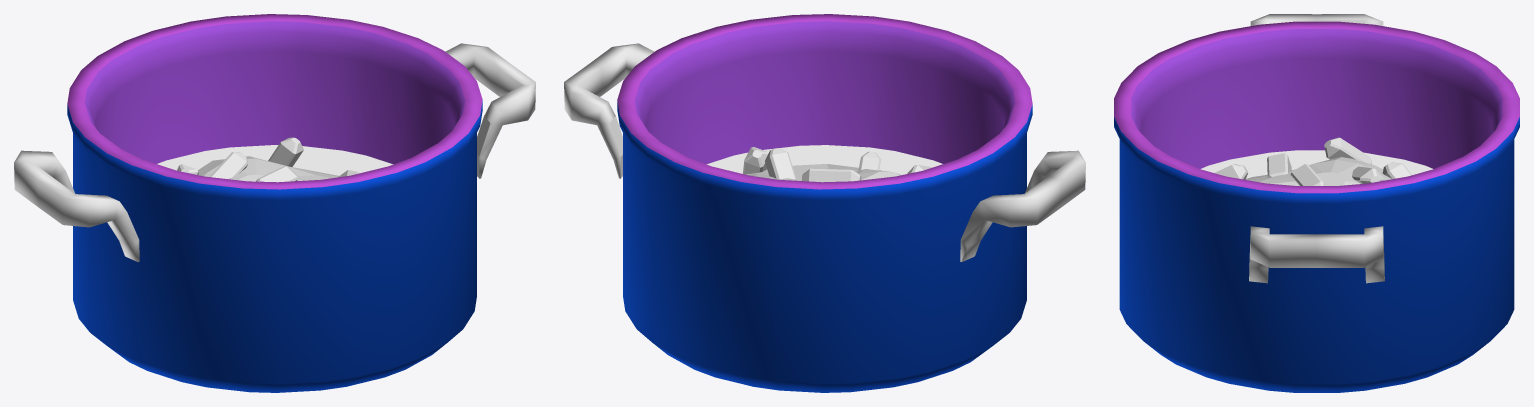
Rendered from OatmealPot.fbx.
3 views of the same model, side by side, from view 1: azimuth 30°, elevation 25°; view 2: azimuth 150°, elevation 25°; view 3: azimuth 270°, elevation 25° (orthographic).
Visible parts, largest first — view 1: Cylinder, Cylinder.003, Water.001, Cube, Cylinder.005; view 2: Cylinder, Cylinder.003, Water.001, Cube, Cylinder.005; view 3: Cylinder, Cylinder.003, Cube, Water.001, Cylinder.005.
Boxes of the visible parts, x1,y1,x2,y2 form: Cylinder: [67, 14, 482, 392]; Cylinder.003: [14, 43, 535, 261]; Water.001: [157, 145, 393, 175]; Cube: [177, 137, 360, 182]; Cylinder.005: [197, 156, 338, 181]; Cylinder: [617, 14, 1032, 392]; Cylinder.003: [564, 43, 1085, 261]; Water.001: [706, 145, 942, 174]; Cube: [743, 147, 932, 182]; Cylinder.005: [746, 164, 901, 180]; Cylinder: [1114, 21, 1519, 392]; Cylinder.003: [1249, 14, 1384, 283]; Cube: [1214, 137, 1411, 185]; Water.001: [1200, 150, 1433, 178]; Cylinder.005: [1245, 157, 1391, 185].
Bounding box in the file's own units: 83.38 × 35.99 × 62.94.
